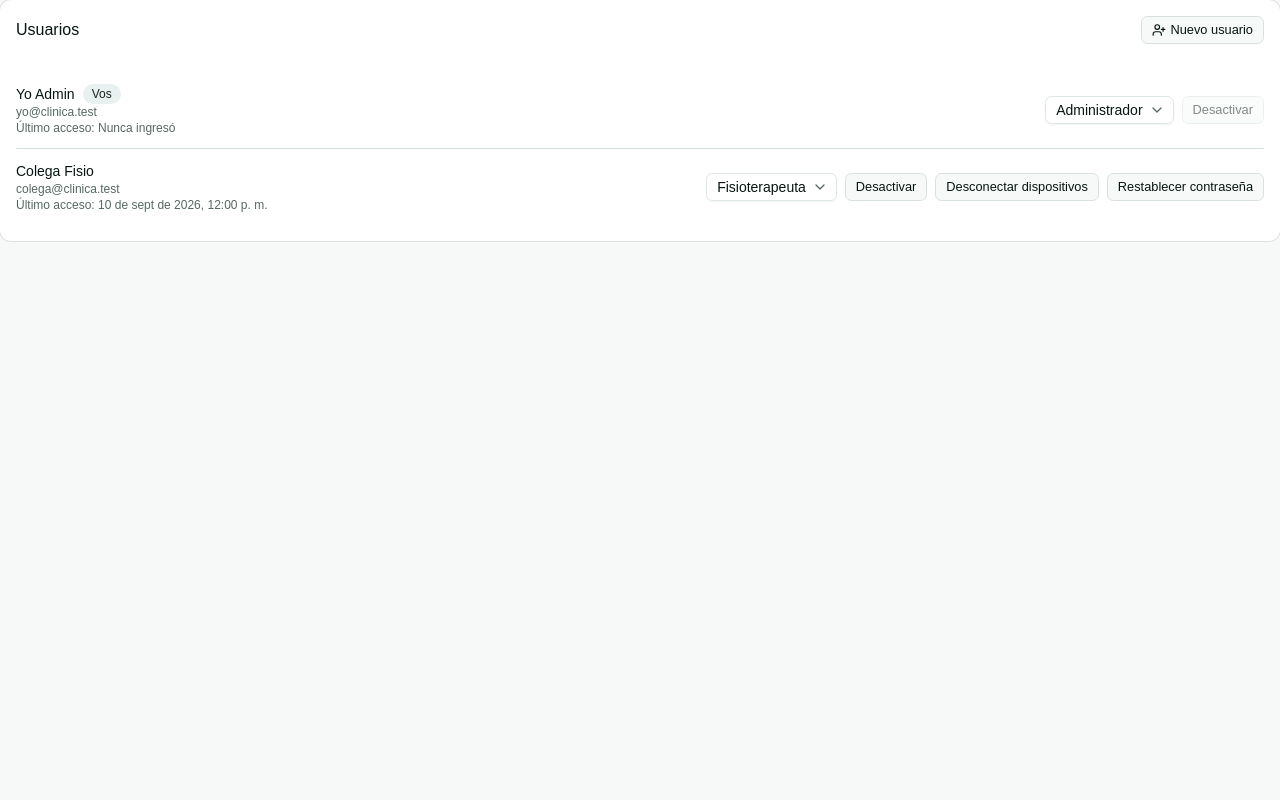
Test: UsersCard › cancelar la confirmación no toca la API
Click the button "Desactivar" in the row of "Colega Fisio": [886, 187] box [845,173,927,201]
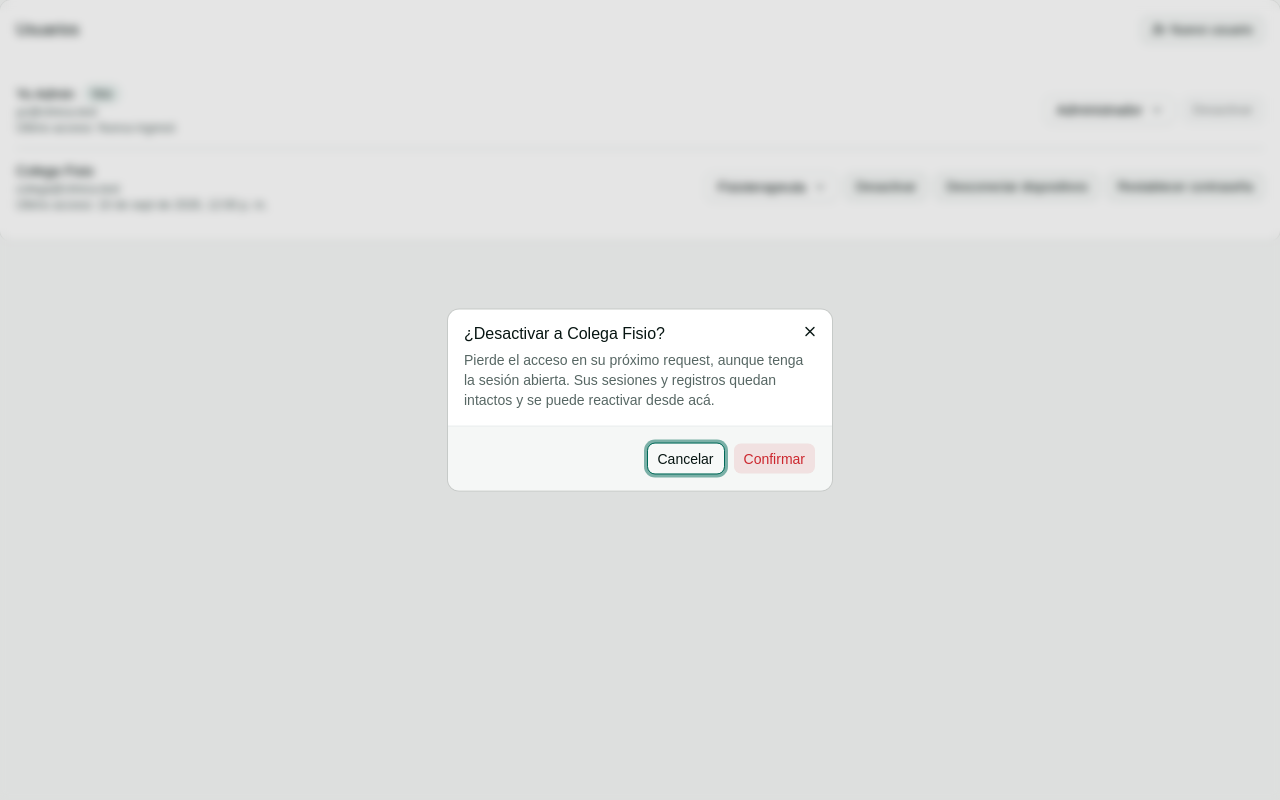
Click the button "Cancelar": [686, 458] box [646,442,724,474]
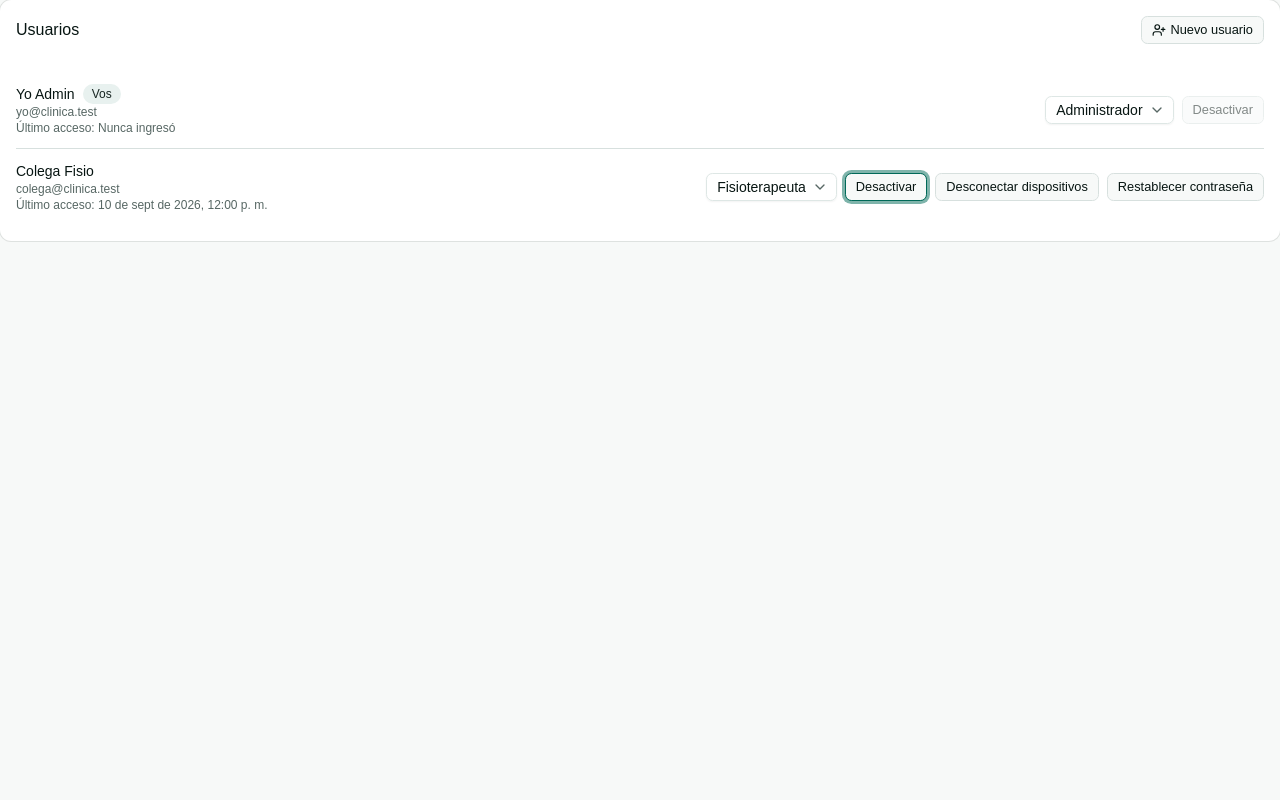
Expected: the dialog is gone
